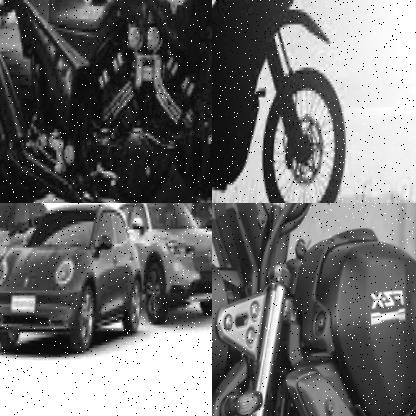bike: (212, 203, 416, 416), (212, 0, 361, 203)
car: (0, 203, 142, 366), (132, 203, 212, 330), (0, 203, 36, 333)
